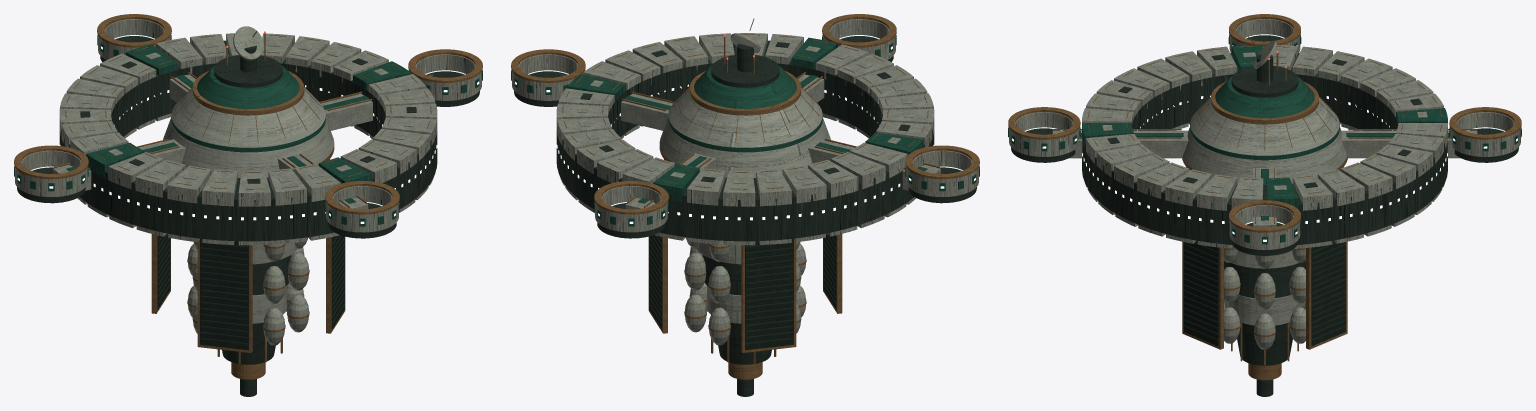
Rendered from crown_haven_merchant.glb.
3 renders of one model, left to right at view 1: azimuth 30°, elevation 25°; view 2: azimuth 150°, elevation 25°; view 3: azimuth 270°, elevation 25°, orthographic. The views are drawn at different scales.
Parts seen in each view (by area): view 1: Stationary_Body_Corporate_Hull, Stationary_Body_Corporate_Frame, Stationary_Body_Corporate_Trim, Stationary_Body_Corporate_Accent, Stationary_Body_Corporate_Dark, Radar_Rotor_Corporate_Hull, Stationary_Body_Corporate_Window; view 2: Stationary_Body_Corporate_Hull, Stationary_Body_Corporate_Frame, Stationary_Body_Corporate_Trim, Stationary_Body_Corporate_Accent, Stationary_Body_Corporate_Dark, Stationary_Body_Corporate_Window; view 3: Stationary_Body_Corporate_Hull, Stationary_Body_Corporate_Frame, Stationary_Body_Corporate_Trim, Stationary_Body_Corporate_Accent, Stationary_Body_Corporate_Dark, Stationary_Body_Corporate_Window.
Boxes of the visible parts, bbox=[...] form: Stationary_Body_Corporate_Hull: bbox=[15, 19, 481, 345]; Stationary_Body_Corporate_Frame: bbox=[17, 36, 479, 396]; Stationary_Body_Corporate_Trim: bbox=[14, 14, 482, 379]; Stationary_Body_Corporate_Accent: bbox=[14, 35, 482, 226]; Stationary_Body_Corporate_Dark: bbox=[157, 234, 344, 350]; Radar_Rotor_Corporate_Hull: bbox=[233, 26, 263, 60]; Stationary_Body_Corporate_Window: bbox=[59, 85, 437, 220]; Stationary_Body_Corporate_Hull: bbox=[512, 19, 978, 345]; Stationary_Body_Corporate_Frame: bbox=[514, 36, 976, 396]; Stationary_Body_Corporate_Trim: bbox=[511, 14, 979, 379]; Stationary_Body_Corporate_Accent: bbox=[511, 35, 979, 226]; Stationary_Body_Corporate_Dark: bbox=[649, 234, 836, 350]; Stationary_Body_Corporate_Window: bbox=[556, 84, 934, 220]; Stationary_Body_Corporate_Hull: bbox=[1009, 19, 1520, 349]; Stationary_Body_Corporate_Frame: bbox=[1011, 35, 1518, 396]; Stationary_Body_Corporate_Trim: bbox=[1008, 14, 1521, 380]; Stationary_Body_Corporate_Accent: bbox=[1008, 34, 1521, 244]; Stationary_Body_Corporate_Dark: bbox=[1184, 240, 1345, 346]; Stationary_Body_Corporate_Window: bbox=[1082, 95, 1447, 223].
Size of the model in its own units: 107 by 82 by 107.
8 materials, 5 textured.
